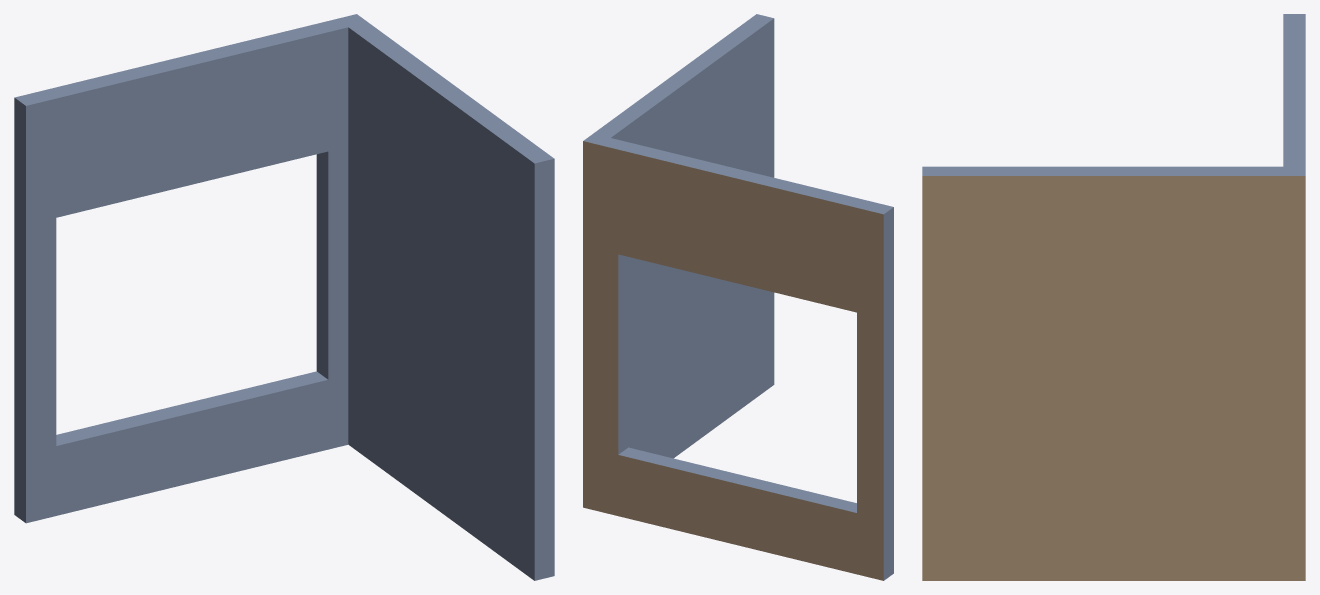
The model's file is Wall2_C3_13.fbx.
3 renders of one model, left to right at view 1: azimuth 30°, elevation 25°; view 2: azimuth 150°, elevation 25°; view 3: azimuth 270°, elevation 25°, orthographic. The views are drawn at different scales.
Visible parts, largest first — view 1: Wall2_C3_13; view 2: Wall2_C3_13; view 3: Wall2_C3_13.
Part boxes in pixels (box(x1,y1,x2,y2)): Wall2_C3_13: box(14, 14, 554, 580); Wall2_C3_13: box(583, 14, 893, 580); Wall2_C3_13: box(922, 14, 1305, 580).
Bounding box in the file's own units: 258 × 300 × 258.
